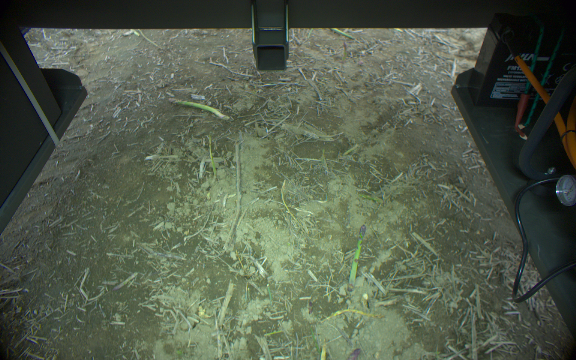aspa: (167, 95, 229, 119), (347, 222, 368, 290)
